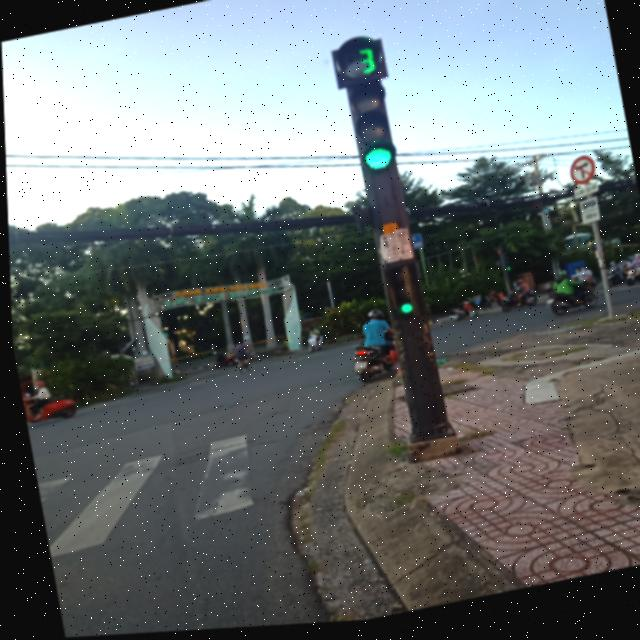Green: (341, 79, 407, 188), (374, 263, 425, 332)
